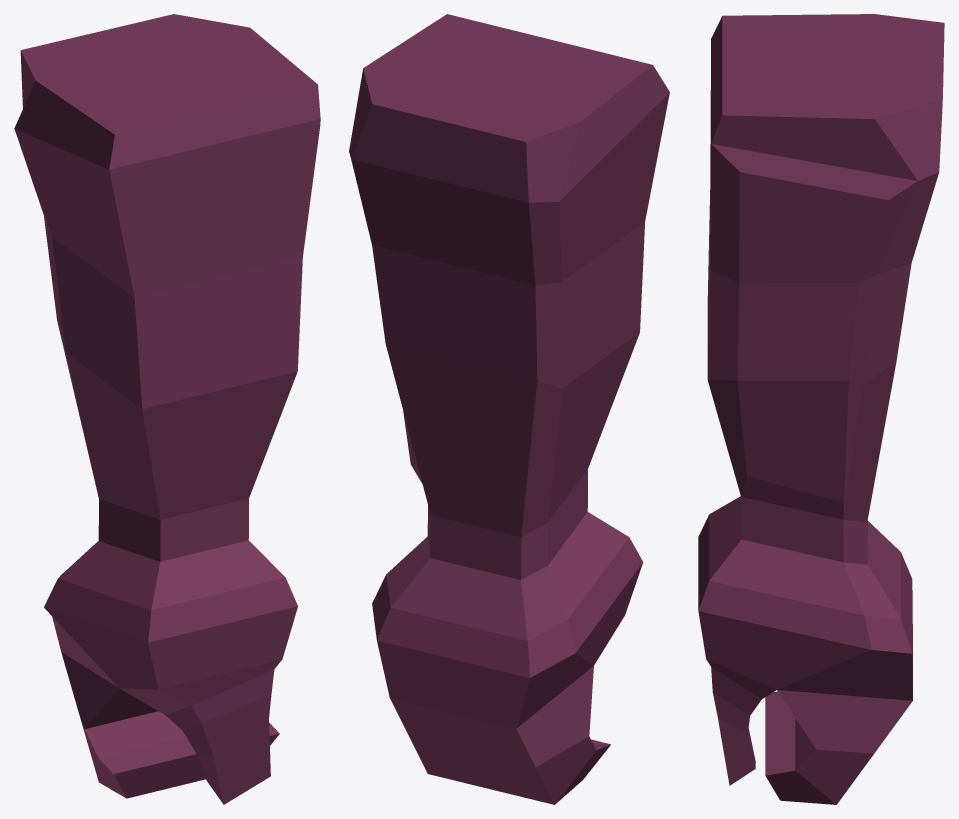
File: hidariude.obj
The picture shows the model from 3 angles, left to right: view 1: azimuth 30°, elevation 25°; view 2: azimuth 150°, elevation 25°; view 3: azimuth 270°, elevation 25°; orthographic projection.
Visible parts, largest first — view 1: pCube4 pCube5; view 2: pCube4 pCube5; view 3: pCube4 pCube5.
Part boxes in pixels (<box>): pCube4 pCube5: <box>14,14,320,804</box>; pCube4 pCube5: <box>349,14,669,804</box>; pCube4 pCube5: <box>698,14,944,804</box>.
Size of the model in its own units: 0.3885 by 1.16 by 0.3635.
1 material, 1 textured.
